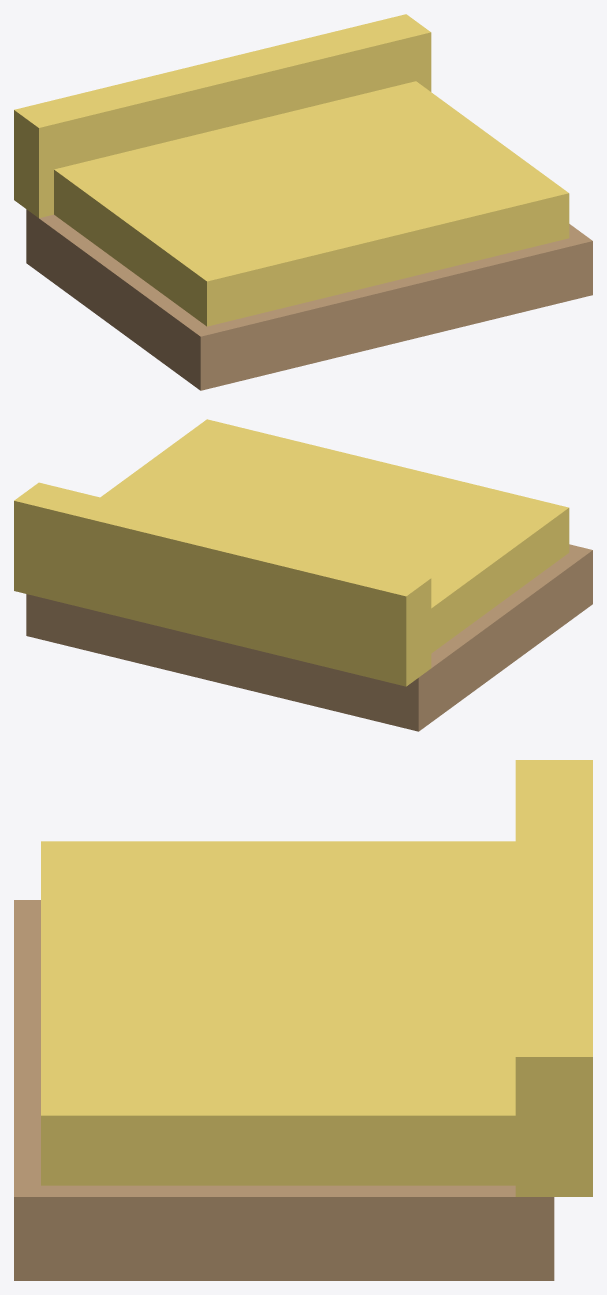
Rendered from Prop_Pet_AMF_Bed_V3.glb.
3 renders of one model, top to bottom at view 1: azimuth 30°, elevation 25°; view 2: azimuth 150°, elevation 25°; view 3: azimuth 270°, elevation 25°, orthographic. The views are drawn at different scales.
Parts seen in each view (by area): view 1: Prop_Pet_AMF_Bed_V3; view 2: Prop_Pet_AMF_Bed_V3; view 3: Prop_Pet_AMF_Bed_V3.
Boxes of the visible parts, x1,y1,x2,y2 form: Prop_Pet_AMF_Bed_V3: (14,14,592,390); Prop_Pet_AMF_Bed_V3: (14,419,592,731); Prop_Pet_AMF_Bed_V3: (14,760,592,1280).
Bounding box in the file's own units: 0.91 × 0.32 × 0.75.
